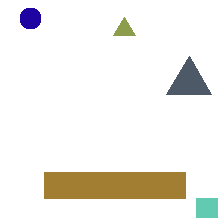circle: (20, 8, 40, 28)
rectangle: (44, 172, 185, 198), (196, 198, 217, 217)
triangle: (166, 56, 211, 94), (113, 17, 135, 35)
